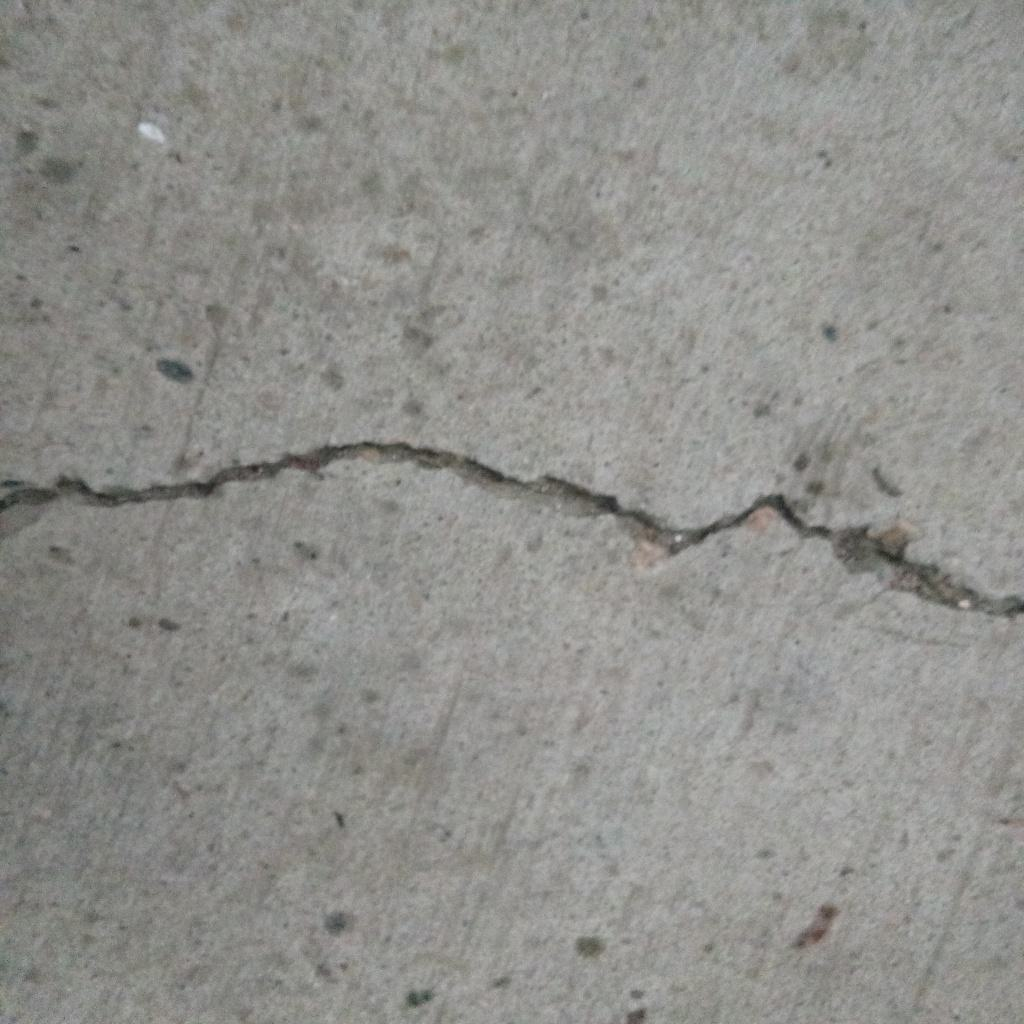Crack: (1, 440, 1024, 621)
